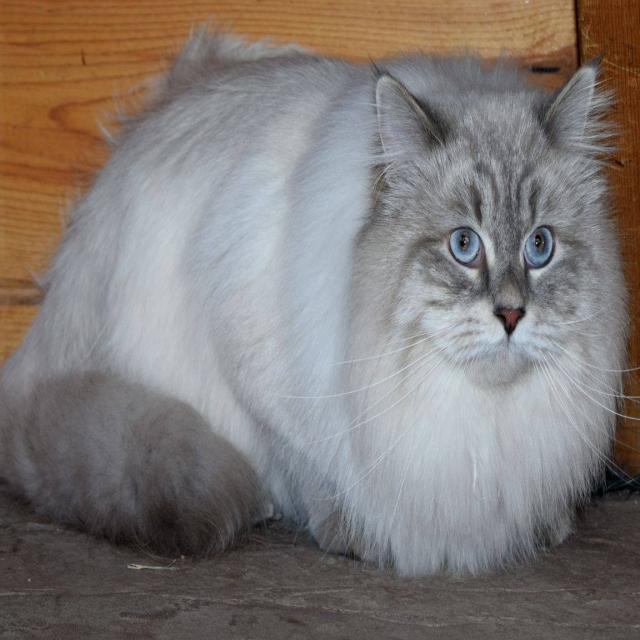Neva Masquerade: (0, 20, 634, 591)
